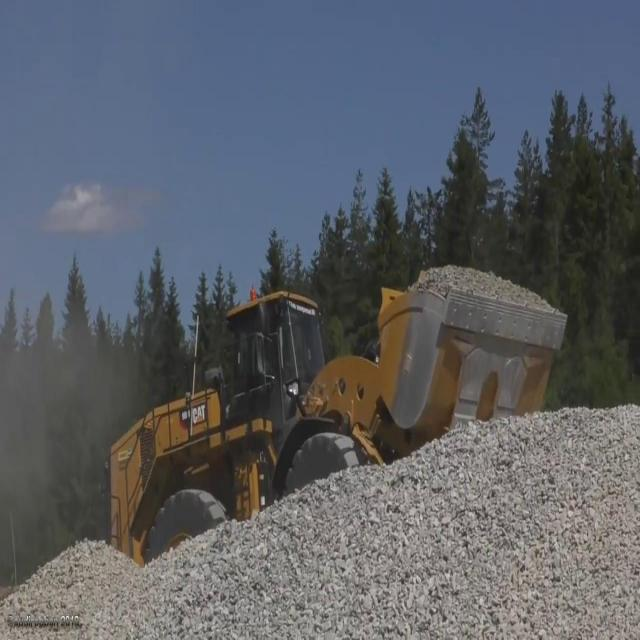Loader: (97, 255, 571, 567)
